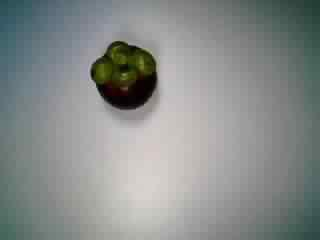mangosteen: (86, 40, 160, 112)
